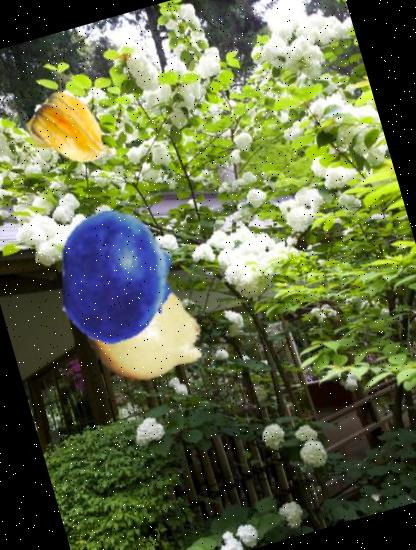Huckleberry: (34, 194, 199, 360)
Physalis: (20, 81, 126, 187)
Quince: (71, 260, 219, 407)
